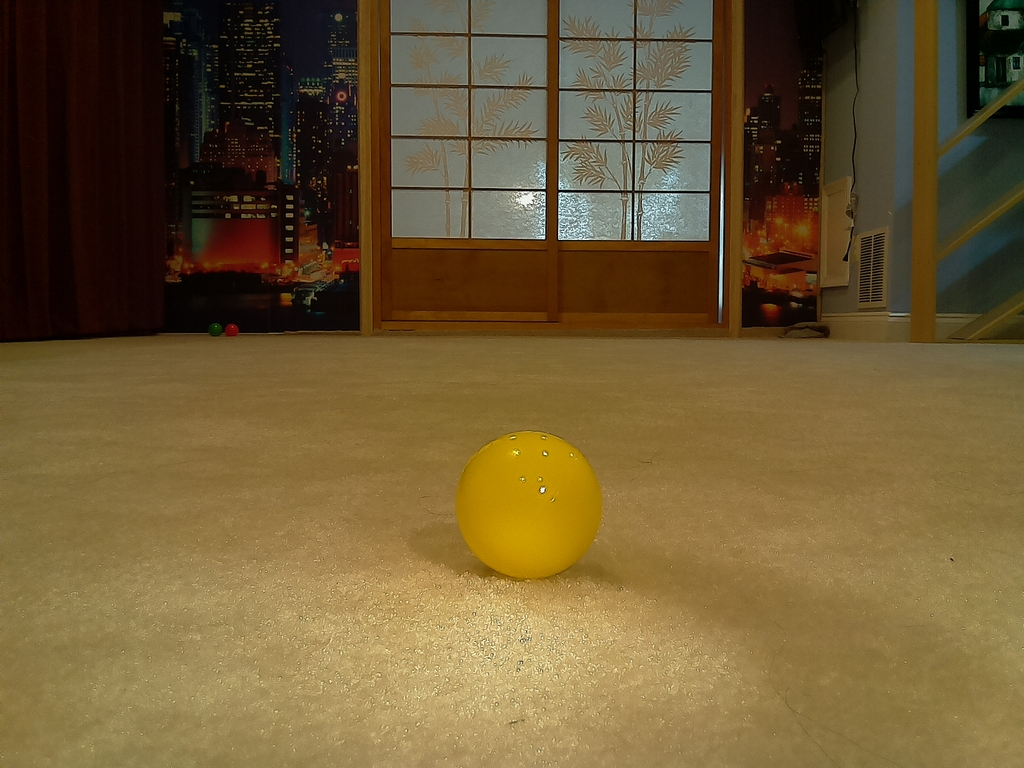ball: (459, 431, 601, 577)
